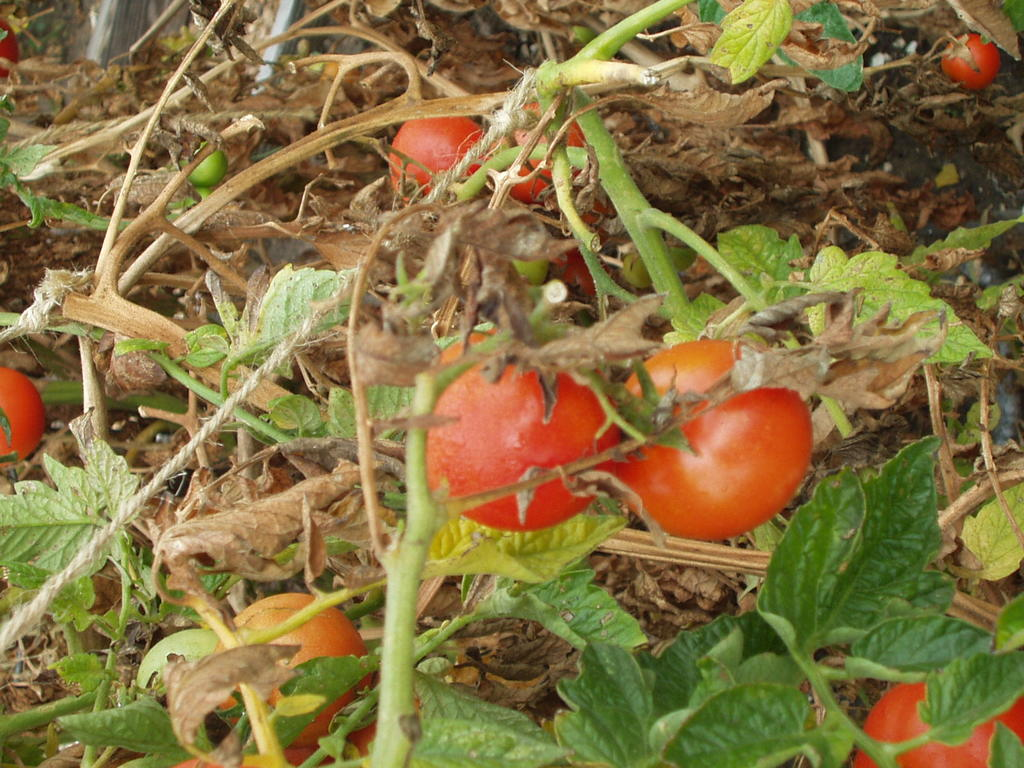Tomato: (616, 335, 810, 539), (427, 321, 615, 529), (213, 589, 366, 741), (853, 690, 1021, 766), (284, 671, 422, 761), (491, 95, 595, 201), (393, 118, 509, 197), (139, 627, 219, 697), (0, 362, 44, 467), (937, 29, 1001, 93), (174, 140, 227, 187), (0, 11, 18, 77), (171, 754, 259, 766)
